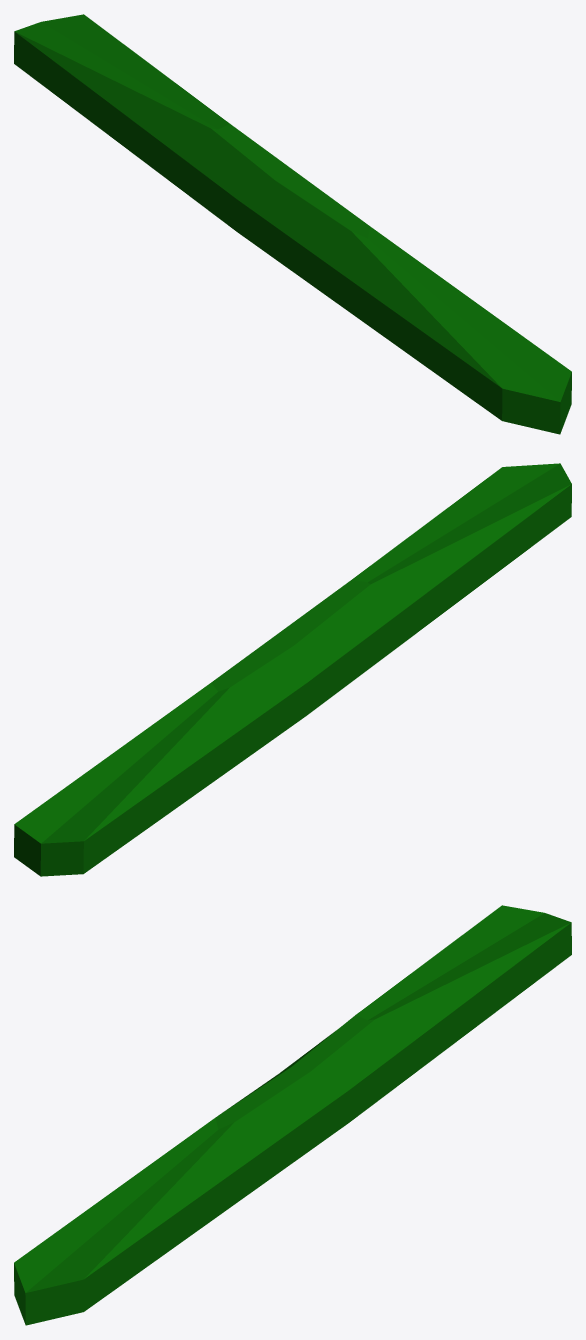
File: barchetta_fractioned_zavorra.fbx
The picture shows the model from 3 angles, top to bottom: view 1: azimuth 30°, elevation 25°; view 2: azimuth 150°, elevation 25°; view 3: azimuth 330°, elevation 25°; orthographic projection.
Visible parts, largest first — view 1: zavorra; view 2: zavorra; view 3: zavorra.
Boxes of the visible parts, x1,y1,x2,y2 form: zavorra: [14, 14, 571, 434]; zavorra: [14, 463, 571, 876]; zavorra: [14, 905, 571, 1325].
Size of the model in its own units: 91.75 by 111 by 1187.
